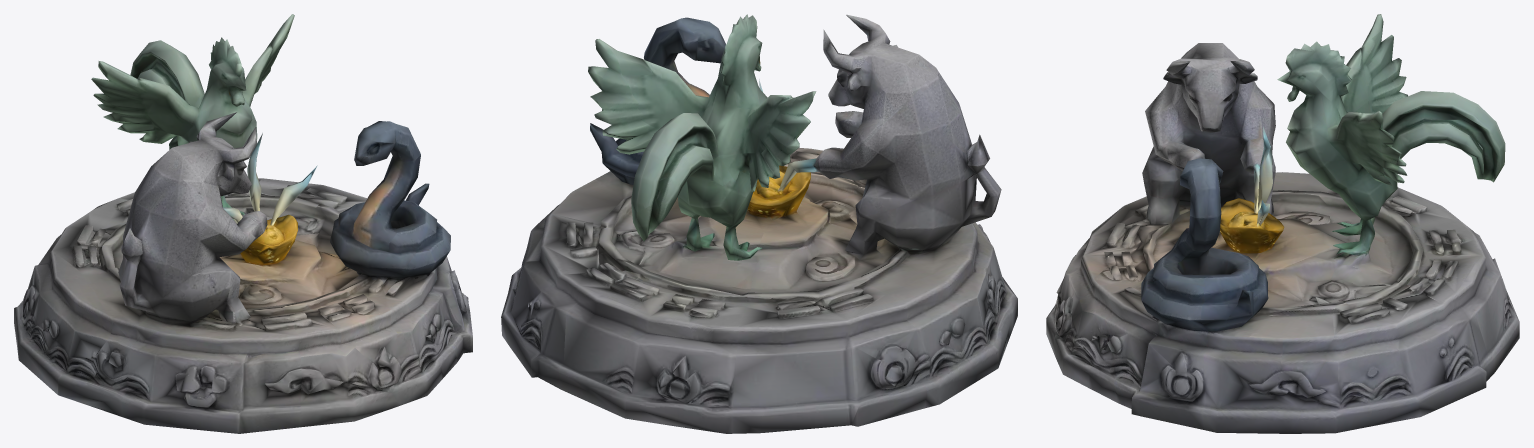
File: sanhe_metal.glb
3 renders of one model, left to right at view 1: azimuth 30°, elevation 25°; view 2: azimuth 150°, elevation 25°; view 3: azimuth 270°, elevation 25°, orthographic. The views are drawn at different scales.
Parts seen in each view (by area): view 1: tripo_node_5ab4defe-1940-4018-a0c0-ddcc1726e60f; view 2: tripo_node_5ab4defe-1940-4018-a0c0-ddcc1726e60f; view 3: tripo_node_5ab4defe-1940-4018-a0c0-ddcc1726e60f.
Part boxes in pixels (left/top/right/bottom): tripo_node_5ab4defe-1940-4018-a0c0-ddcc1726e60f: left=14, top=14, right=472, bottom=433; tripo_node_5ab4defe-1940-4018-a0c0-ddcc1726e60f: left=501, top=14, right=1017, bottom=433; tripo_node_5ab4defe-1940-4018-a0c0-ddcc1726e60f: left=1046, top=14, right=1519, bottom=433.
Bounding box in the file's own units: 0.9903 × 0.6865 × 0.9998.
1 material, 1 textured.
